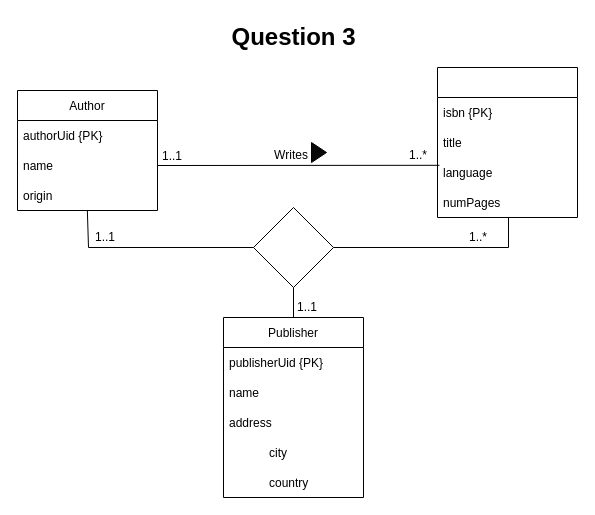
The diagram is 595 pixels wide and 515 high, and some of its shapes have lost their labels. Here are the shapes that lost their labels. From the top down, the box of each, then its label:
(436, 66, 578, 218): Book
(252, 206, 334, 288): Releases
